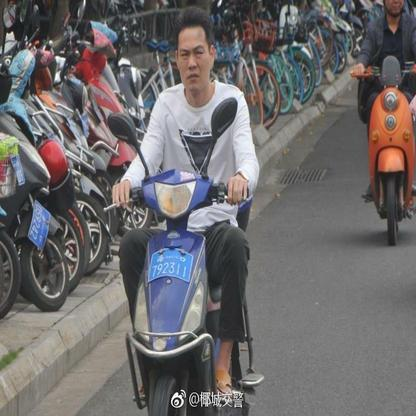target: (106, 8, 261, 409)
